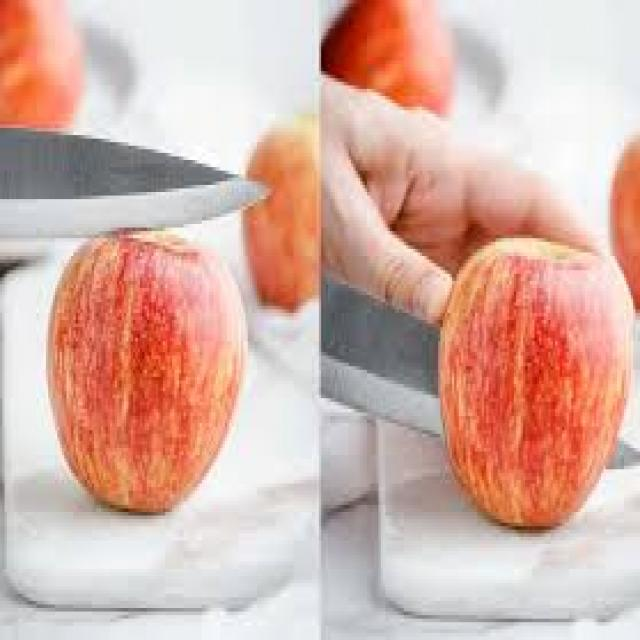Apple: (440, 236, 633, 532), (48, 232, 244, 514), (320, 2, 462, 110), (253, 127, 320, 310), (605, 135, 640, 309)
